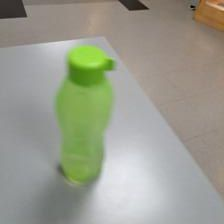bottle: (54, 43, 119, 183)
